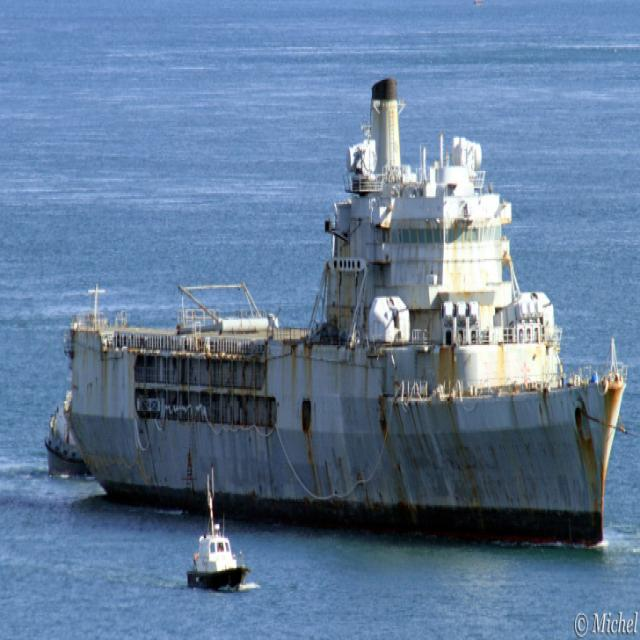Portanaves: (51, 73, 628, 561)
